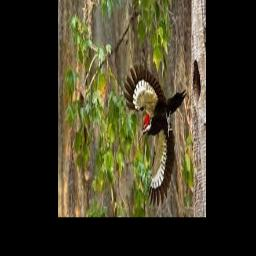Woodpecker: (122, 62, 186, 204)
